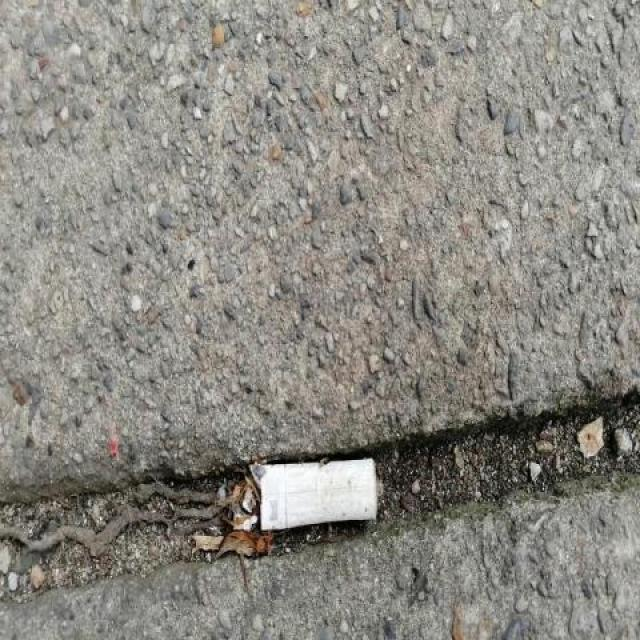non-organic waste: (243, 452, 384, 528)
